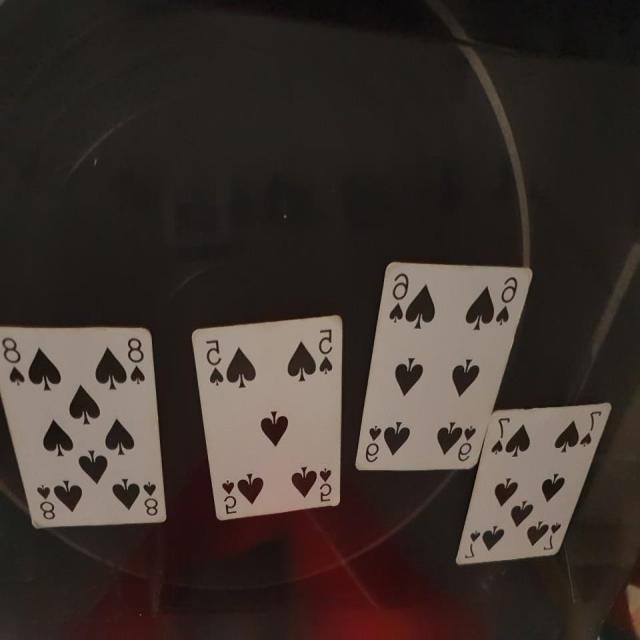5 of spades: (195, 298, 348, 528)
6 of spades: (351, 250, 538, 479)
7 of spades: (454, 391, 618, 573)
8 of spades: (1, 312, 170, 538)
